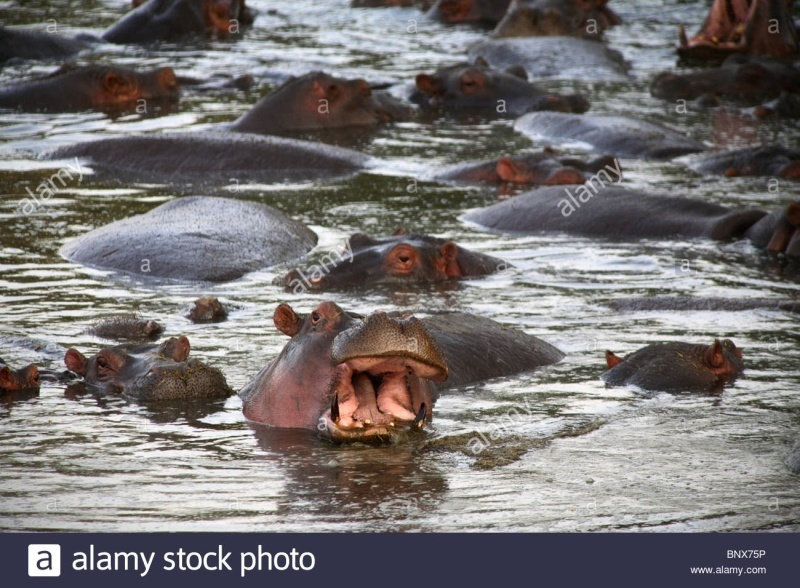hipopotamo: (241, 291, 566, 451), (265, 223, 512, 310), (584, 322, 761, 421), (408, 51, 598, 131), (220, 64, 394, 151), (1, 53, 195, 129), (59, 334, 220, 409)
